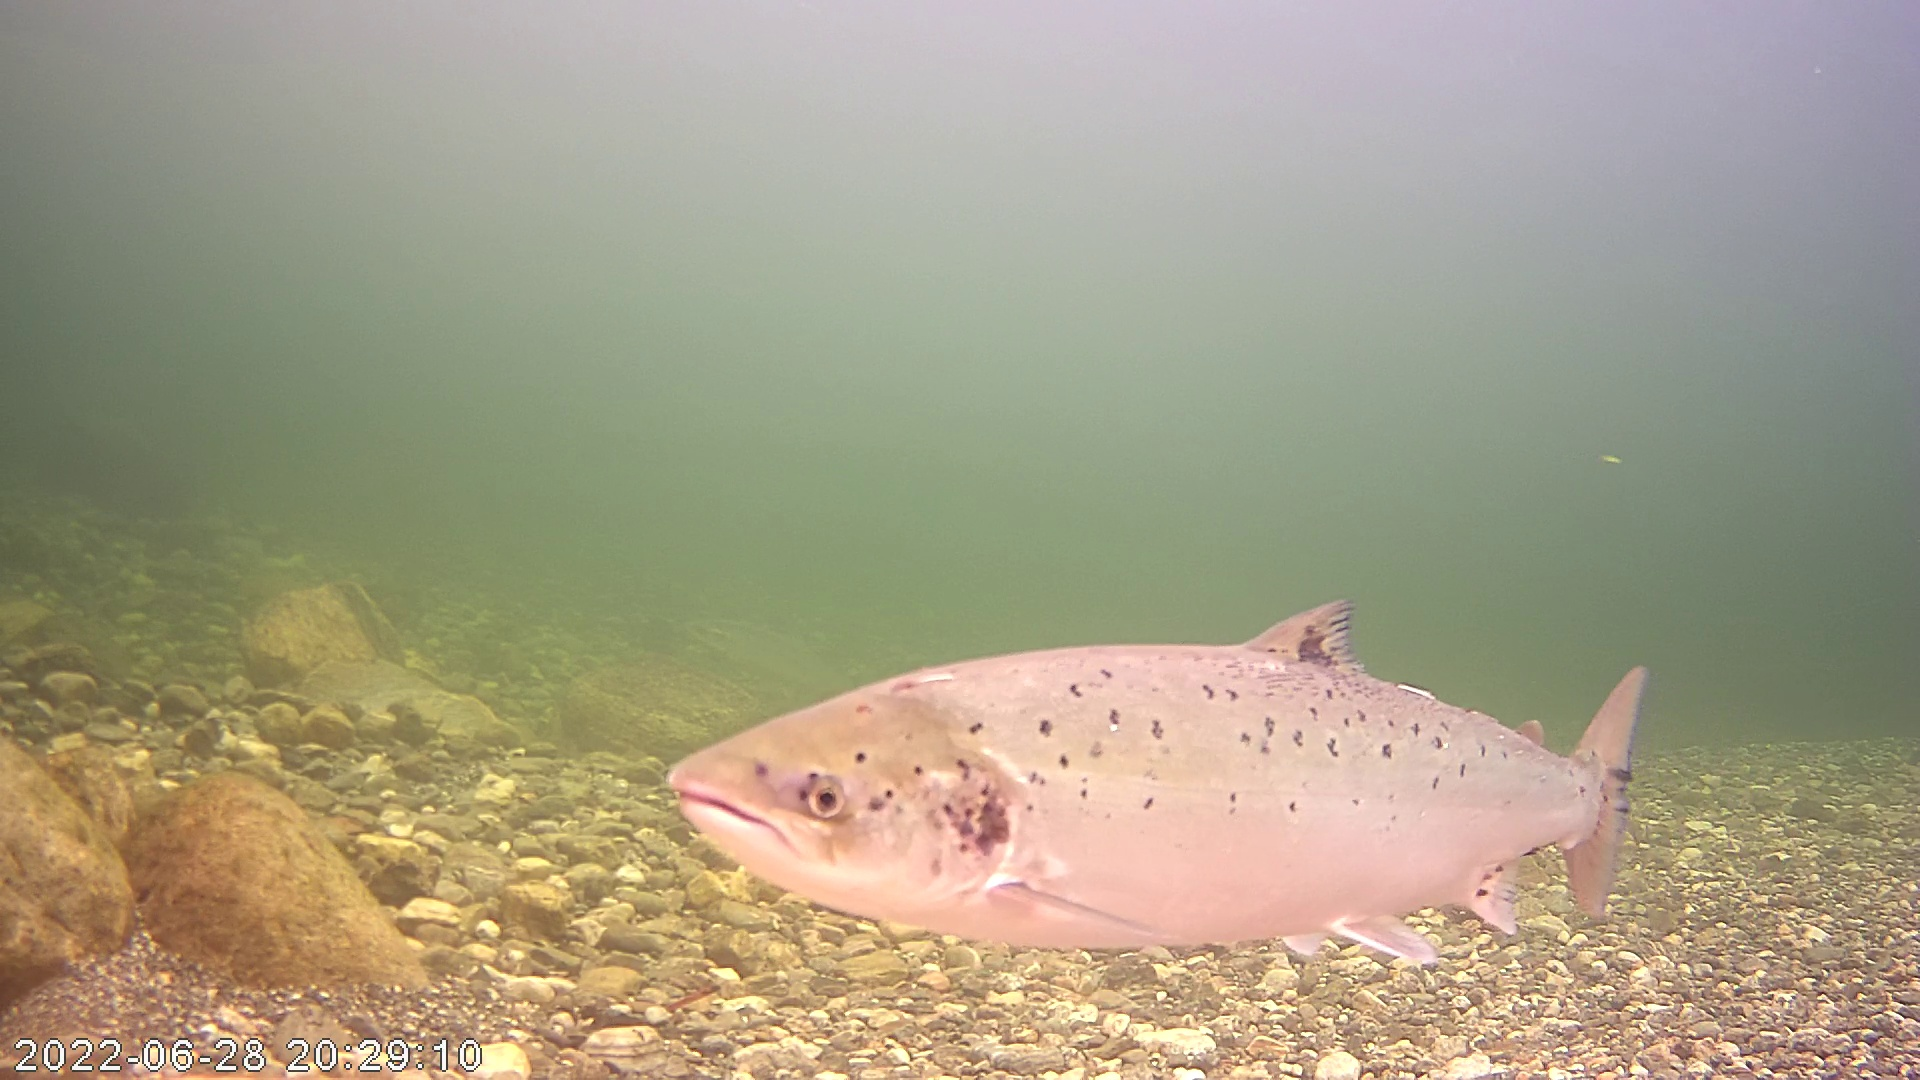salmon: (651, 568, 1672, 969)
